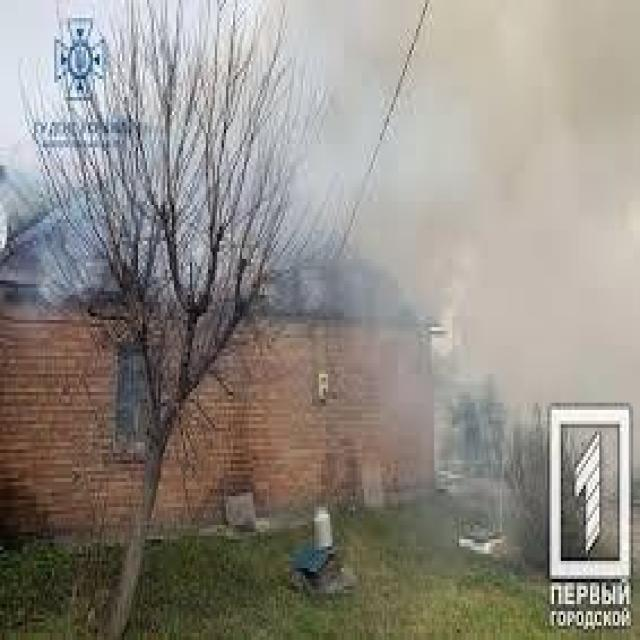Smoke: (355, 0, 640, 538), (7, 112, 346, 312)
